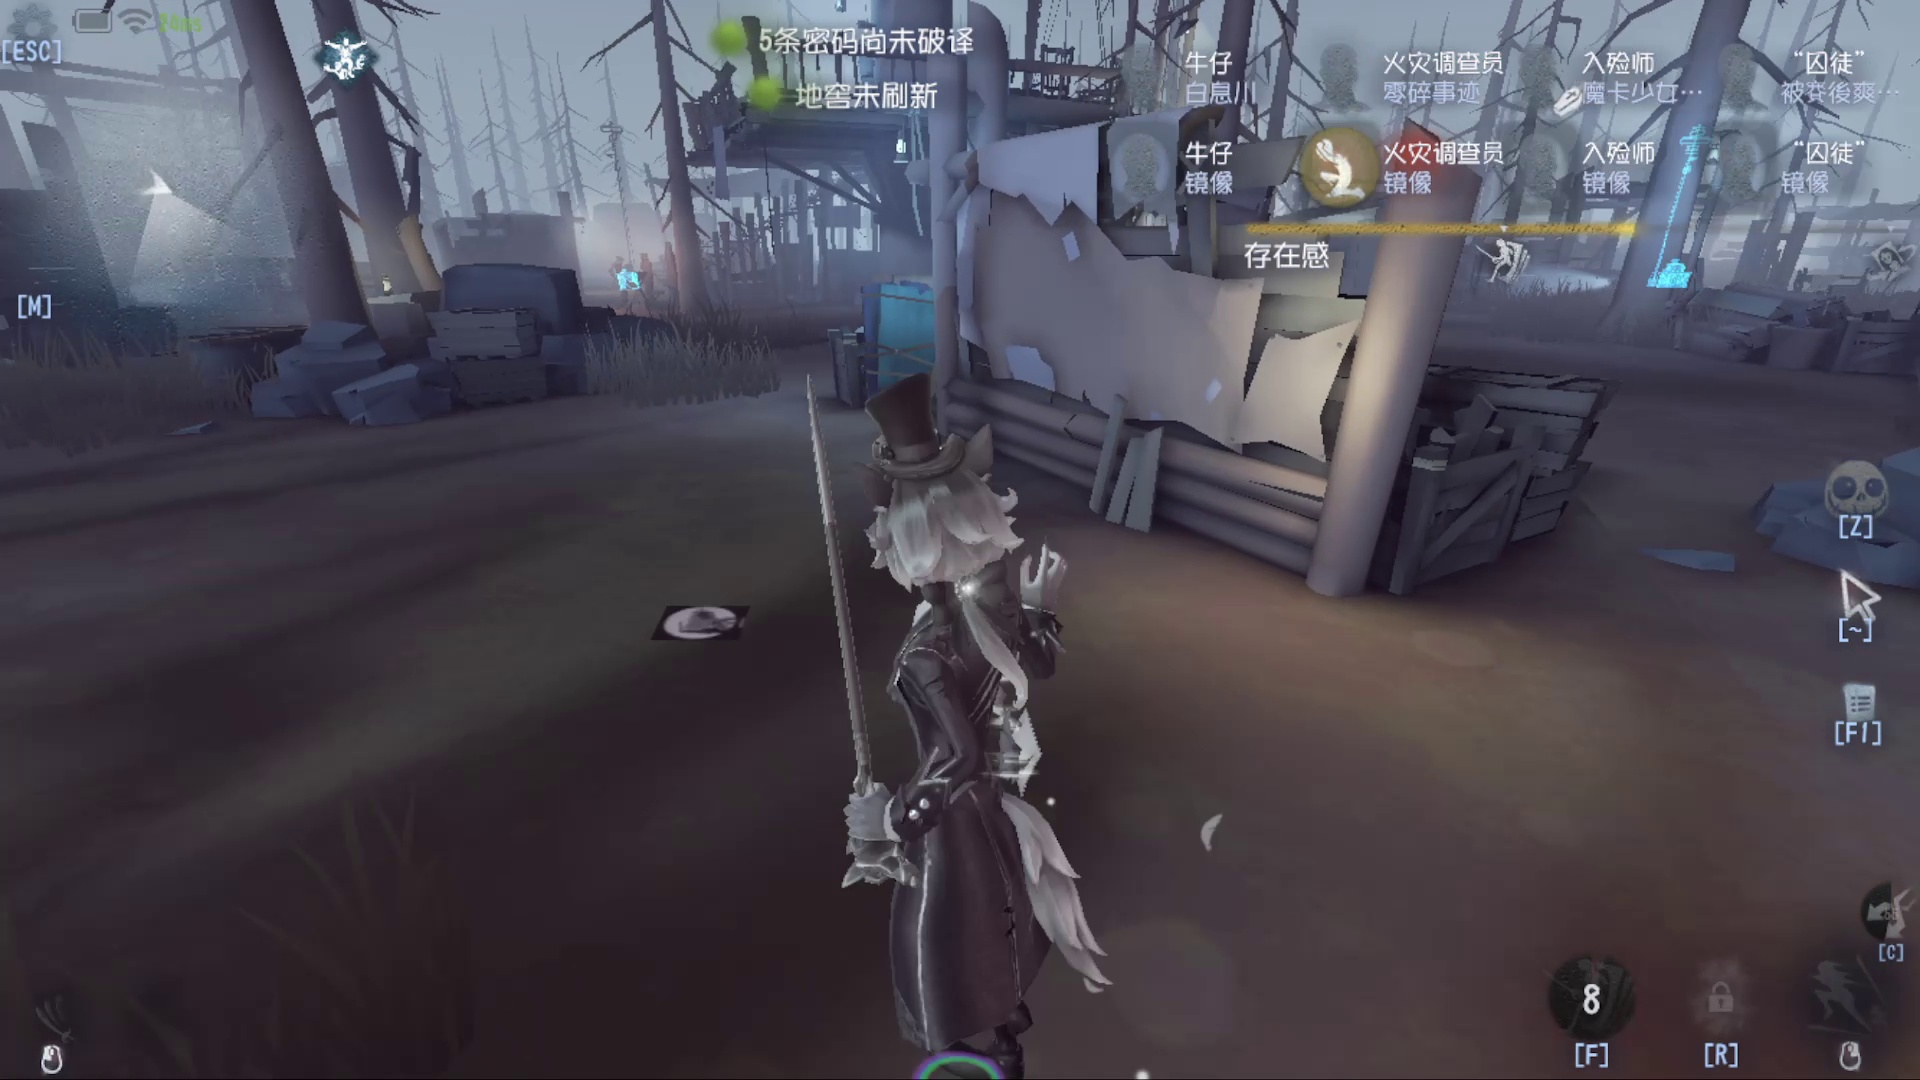密码机: (570, 108, 665, 311)
木板: (831, 273, 993, 411)
